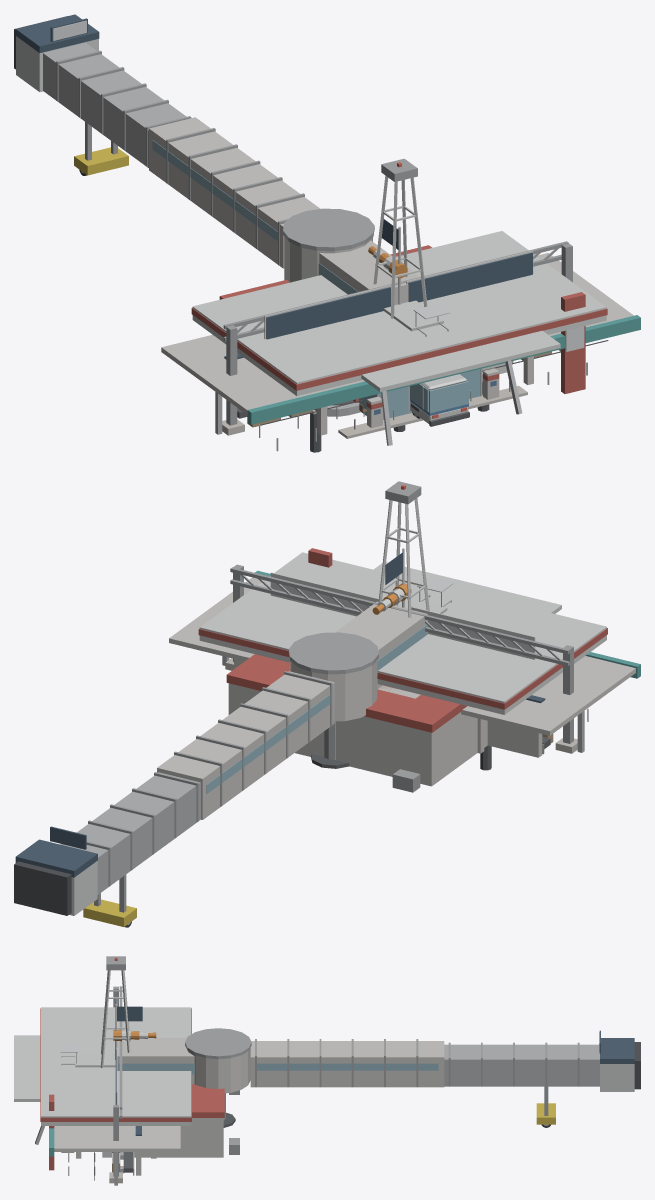
Rendered from skyport_kit.glb.
The picture shows the model from 3 angles, top to bottom: view 1: azimuth 30°, elevation 25°; view 2: azimuth 150°, elevation 25°; view 3: azimuth 270°, elevation 25°; orthographic projection. The views are drawn at different scales.
Visible parts, largest first — view 1: jet_bridge, fuel_canopy, rental_canopy, gantry_sign, entrance_pod, radar_mast, gse_bus, fuel_kiosk, gse_catering, checkin_island; view 2: jet_bridge, fuel_canopy, fuel_kiosk, rental_canopy, gantry_sign, radar_mast, checkin_island, entrance_pod; view 3: jet_bridge, fuel_canopy, rental_canopy, fuel_kiosk, entrance_pod, radar_mast, gantry_sign, checkin_island, gse_catering, flag_pole, windsock.
Part boxes in pixels (bbox=[...]): jet_bridge: bbox=[14, 14, 420, 305]; fuel_canopy: bbox=[191, 231, 607, 438]; rental_canopy: bbox=[161, 253, 640, 434]; gantry_sign: bbox=[222, 241, 572, 435]; entrance_pod: bbox=[358, 330, 560, 445]; radar_mast: bbox=[373, 158, 427, 318]; gse_bus: bbox=[410, 374, 469, 426]; fuel_kiosk: bbox=[219, 245, 585, 393]; gse_catering: bbox=[384, 300, 443, 331]; checkin_island: bbox=[224, 340, 608, 451]; jet_bridge: bbox=[14, 601, 427, 927]; fuel_canopy: bbox=[198, 552, 607, 753]; fuel_kiosk: bbox=[226, 548, 487, 792]; rental_canopy: bbox=[169, 570, 640, 752]; gantry_sign: bbox=[225, 564, 577, 753]; radar_mast: bbox=[378, 481, 429, 617]; checkin_island: bbox=[234, 659, 588, 757]; entrance_pod: bbox=[374, 562, 561, 613]; jet_bridge: bbox=[116, 1028, 640, 1127]; fuel_canopy: bbox=[40, 1007, 191, 1158]; rental_canopy: bbox=[49, 1126, 180, 1185]; fuel_kiosk: bbox=[49, 1084, 239, 1170]; entrance_pod: bbox=[14, 1035, 44, 1144]; radar_mast: bbox=[100, 956, 130, 1067]; gantry_sign: bbox=[109, 986, 122, 1183]; checkin_island: bbox=[68, 1126, 141, 1180]; gse_catering: bbox=[75, 1054, 115, 1067]; flag_pole: bbox=[115, 1004, 142, 1030]; windsock: bbox=[113, 1029, 156, 1059].
Size of the model in its own units: 30.2 by 19.73 by 58.3.
